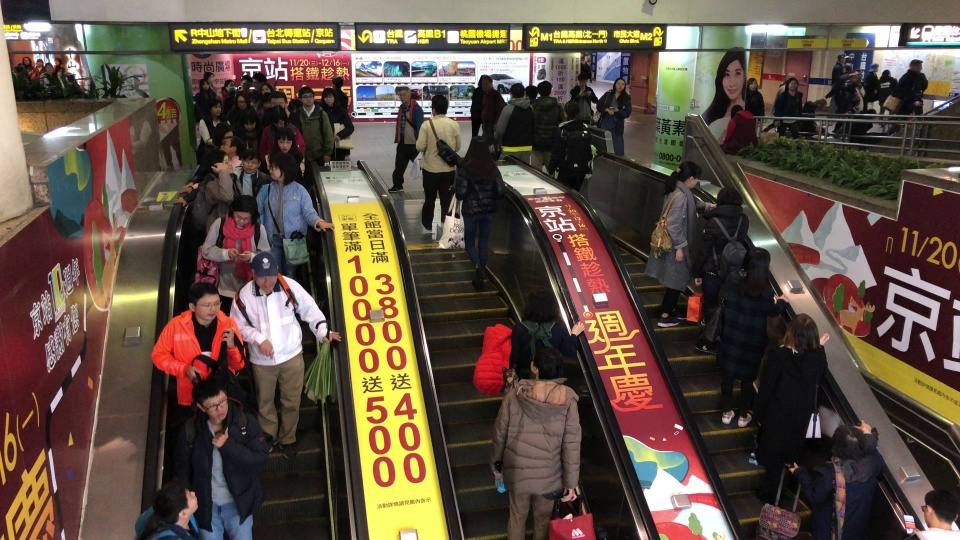person_head: (150, 476, 199, 527), (191, 378, 229, 422), (829, 419, 867, 462), (781, 311, 821, 351), (923, 488, 958, 530), (522, 286, 559, 325), (187, 282, 221, 320), (527, 345, 563, 380), (250, 252, 279, 294), (227, 194, 259, 227), (739, 247, 772, 278), (267, 152, 298, 184), (768, 298, 799, 328), (675, 160, 702, 190), (204, 150, 233, 177), (715, 186, 743, 213), (272, 126, 296, 152), (466, 134, 490, 159), (211, 121, 234, 147), (240, 147, 261, 175), (267, 105, 288, 130), (219, 136, 245, 155), (239, 108, 258, 132), (430, 94, 449, 117), (269, 90, 287, 113), (563, 100, 581, 121), (319, 86, 337, 107), (298, 86, 315, 107), (234, 89, 251, 109), (508, 82, 525, 101), (536, 80, 553, 98), (206, 97, 221, 117), (397, 85, 412, 104), (251, 72, 266, 90), (286, 98, 301, 115), (729, 104, 744, 119), (785, 76, 799, 92), (612, 77, 626, 93), (524, 84, 538, 100), (239, 74, 253, 90), (260, 92, 272, 110), (480, 75, 493, 91), (864, 108, 878, 122), (813, 97, 827, 111), (745, 77, 758, 92), (908, 59, 922, 72), (330, 76, 343, 90), (477, 74, 489, 89), (836, 52, 849, 64), (260, 82, 273, 94), (203, 71, 215, 84), (577, 72, 588, 86), (224, 78, 235, 92), (198, 78, 209, 92), (54, 66, 65, 78), (867, 62, 880, 72), (842, 62, 853, 73), (880, 68, 892, 78), (45, 62, 54, 73), (848, 72, 857, 82), (22, 55, 31, 65), (854, 69, 862, 80), (54, 56, 62, 65), (36, 58, 43, 67), (580, 53, 584, 61)
person_vbox: (228, 252, 342, 459), (487, 345, 582, 540), (172, 377, 270, 540), (749, 298, 831, 468), (151, 282, 247, 425), (715, 247, 790, 428), (760, 310, 842, 467), (642, 159, 715, 327), (788, 419, 886, 540), (256, 152, 335, 284), (201, 194, 272, 317), (690, 186, 749, 329), (453, 134, 506, 292), (509, 286, 585, 382), (415, 94, 462, 234), (172, 147, 273, 207), (133, 476, 204, 540), (546, 100, 592, 194), (386, 85, 425, 193), (179, 136, 245, 193), (179, 121, 235, 188), (493, 82, 534, 165), (529, 80, 565, 172), (295, 86, 335, 166), (900, 488, 960, 540), (258, 104, 306, 168), (596, 77, 632, 156), (319, 86, 355, 165), (203, 150, 246, 215), (480, 75, 508, 159), (195, 98, 226, 165), (896, 59, 928, 121), (832, 108, 888, 143), (772, 76, 803, 139), (721, 104, 757, 154), (823, 52, 849, 121), (824, 62, 854, 121), (568, 72, 598, 122), (877, 67, 898, 128), (470, 74, 489, 141), (225, 89, 259, 125), (799, 97, 829, 136), (834, 72, 858, 119), (235, 108, 263, 148), (192, 78, 218, 121), (745, 77, 765, 123), (862, 62, 878, 110), (330, 76, 349, 115), (286, 98, 302, 135), (214, 78, 235, 103), (255, 92, 272, 121), (38, 62, 54, 90), (22, 55, 39, 81), (580, 53, 592, 83), (53, 66, 68, 88), (52, 56, 64, 73), (34, 58, 45, 75)
